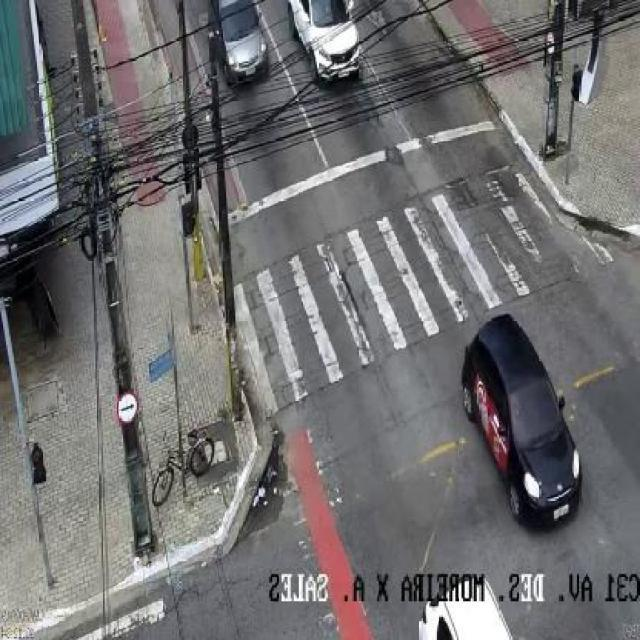Car: (426, 296, 600, 546), (167, 2, 284, 92), (383, 578, 540, 640), (281, 0, 378, 92)
